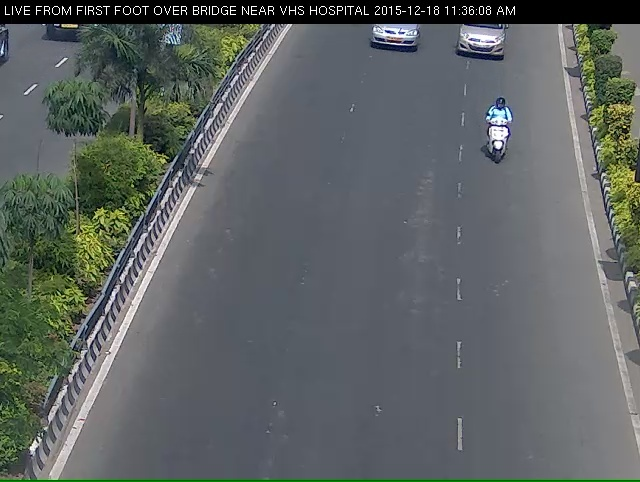Car: (453, 20, 518, 72), (354, 20, 425, 65)
Person: (482, 107, 530, 186)
